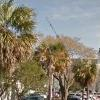Palm tree: (24, 25, 75, 99)
